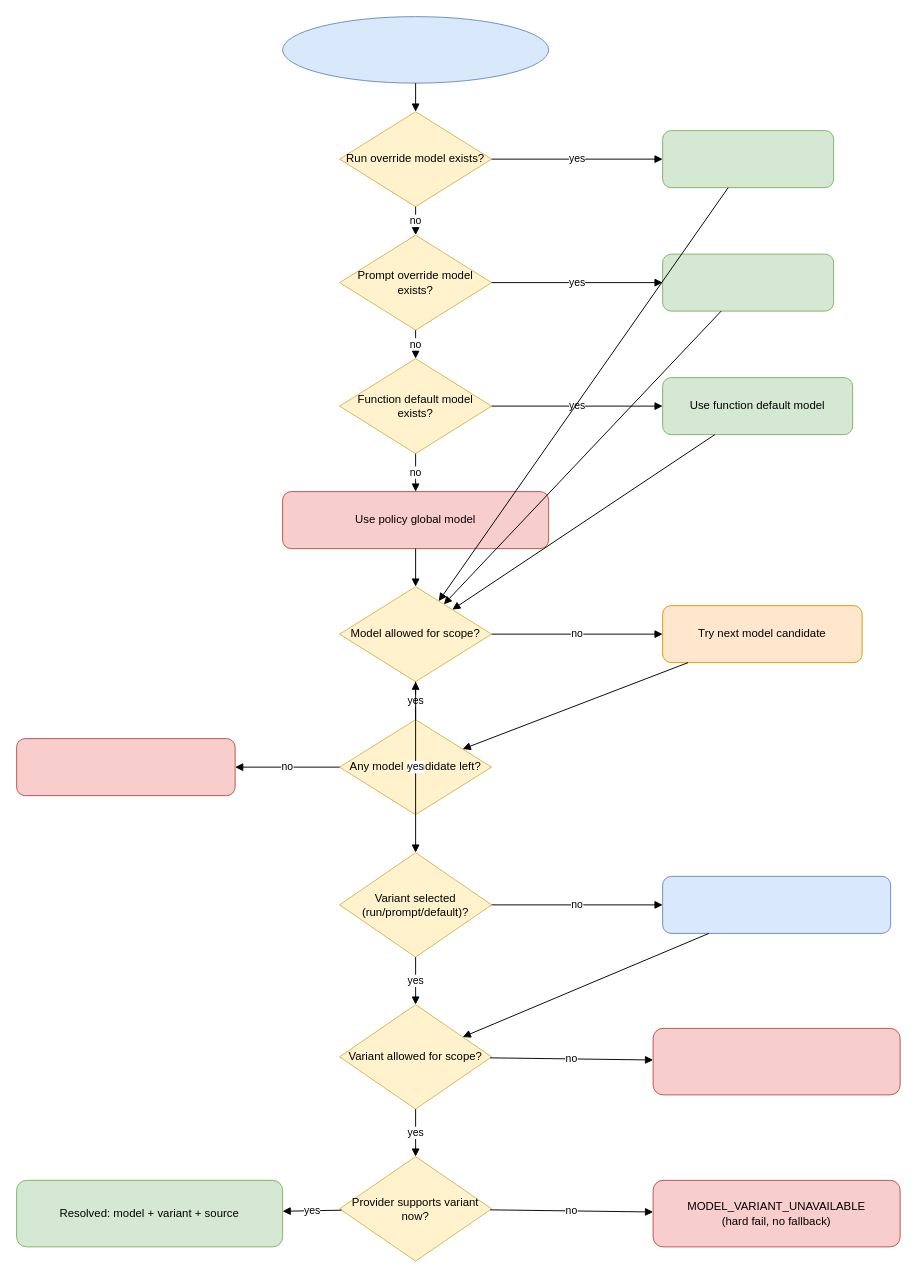
The diagram is 917 pixels wide and 1278 high, and some of its shapes have lost their labels. Here are the shapes that lost their labels. From the top down, the box of each, then its label:
(282, 16, 549, 83): Start runtime request (execute/judge/improve)
(662, 130, 834, 188): Use run model
(662, 253, 834, 311): Use prompt model
(16, 738, 235, 796): MODEL_RESOLUTION_FAILED
(662, 875, 891, 933): Use policy/provider default variant
(652, 1027, 900, 1095): MODEL_VARIANT_NOT_ALLOWED (hard fail, no fallback)
